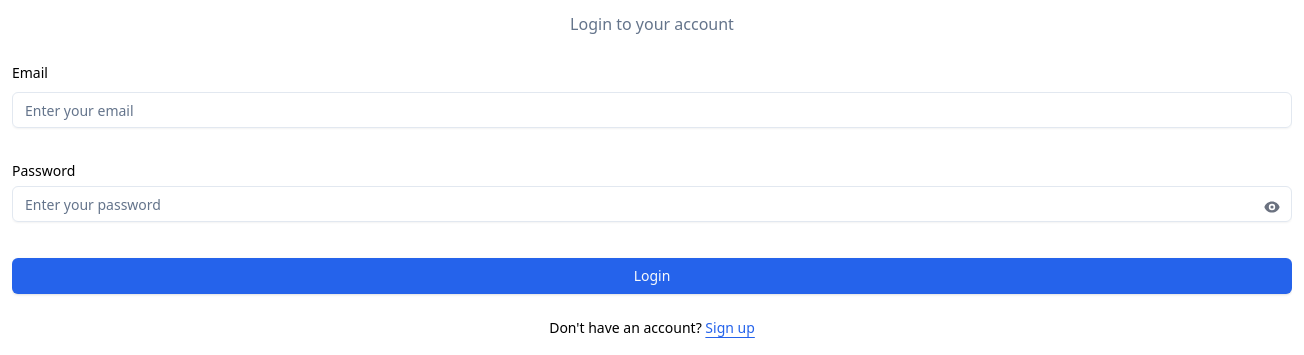
Scenario: Presentation > Features > Auth > LoginForm › should handle unauthorized error
Type "test@example.com" into the field labelled "Email" at (652, 110), box top-left (12, 92), bottom-right (1292, 128)
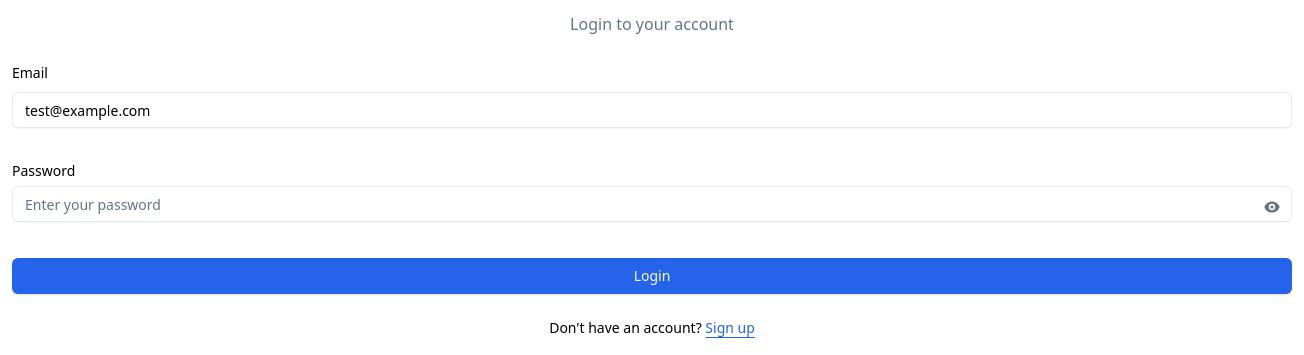
Type "wrong-password" into the password field with test id "password-input" at (652, 204), box top-left (12, 186), bottom-right (1292, 222)
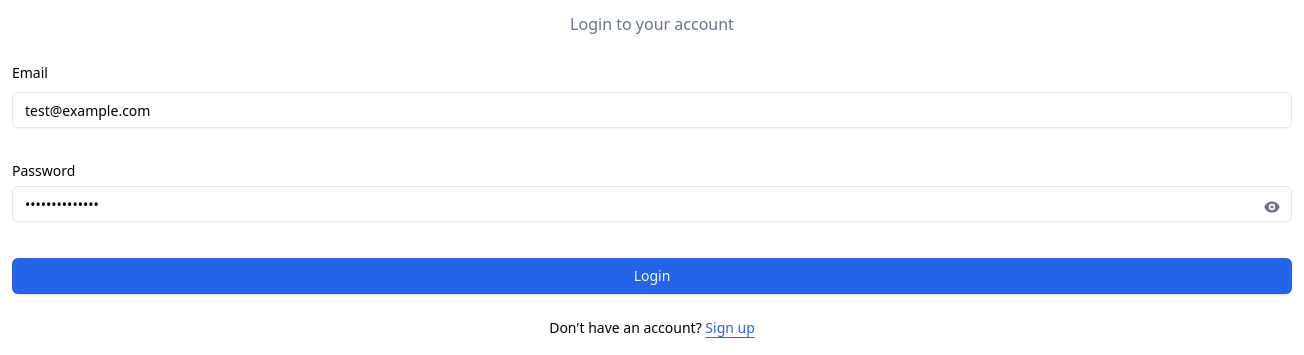
Click the button "Login" at (652, 276), box top-left (12, 258), bottom-right (1292, 294)
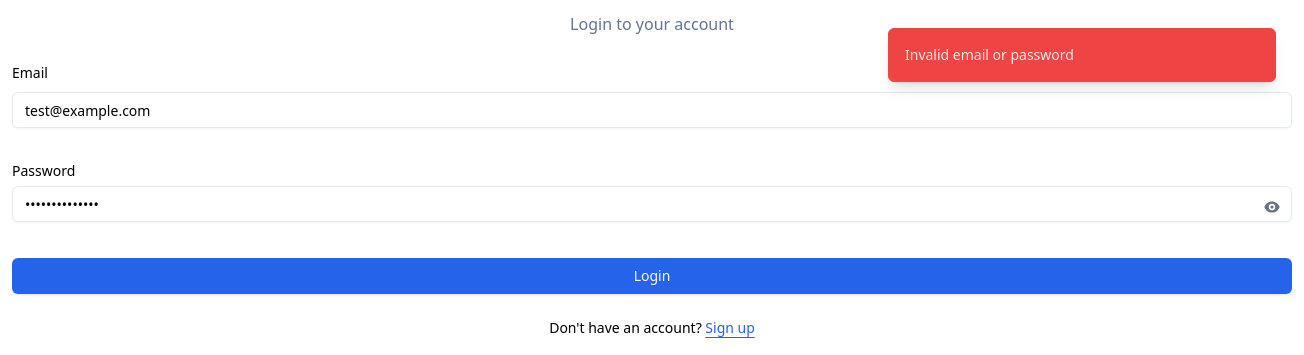
Check: the text "Invalid email or password" is shown, box top-left (905, 45), bottom-right (1074, 65)
